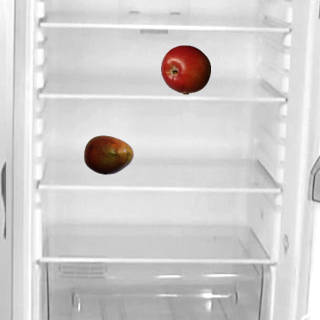Apple Braeburn: (160, 44, 210, 94)
Mango Red: (83, 129, 133, 179)
